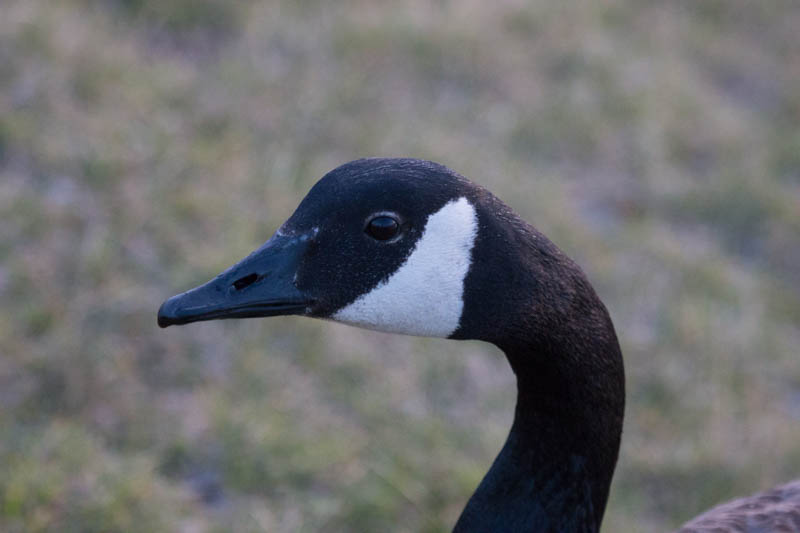goose-head: (157, 159, 535, 341)
